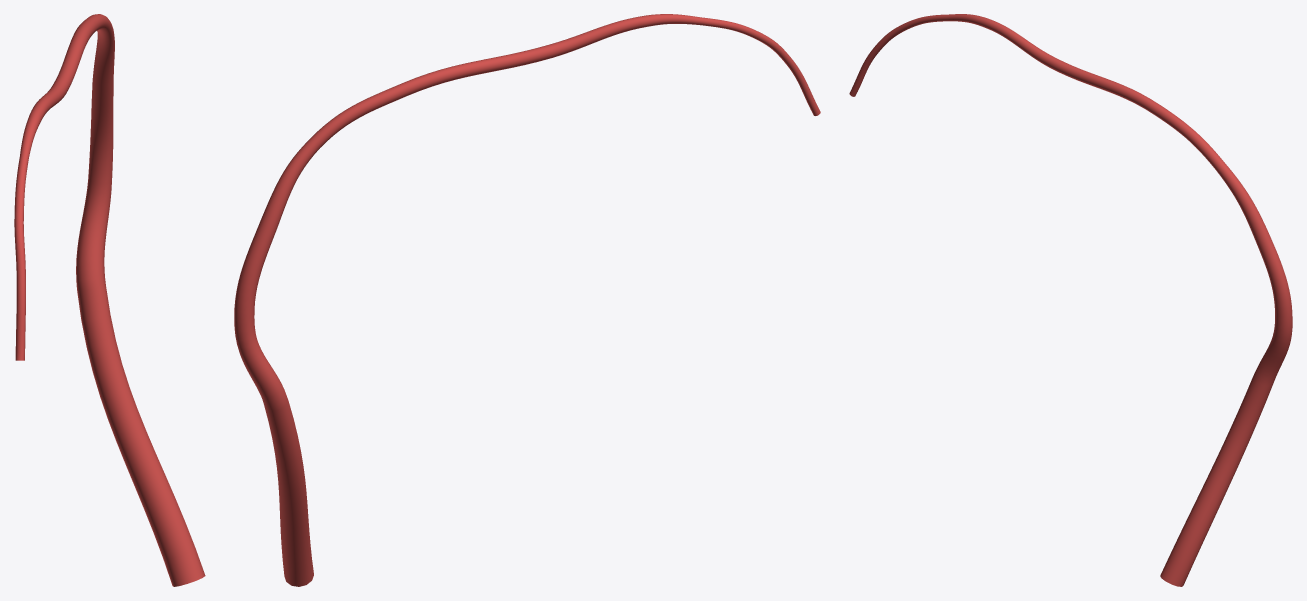
3 views of the same model, side by side, from view 1: azimuth 30°, elevation 25°; view 2: azimuth 150°, elevation 25°; view 3: azimuth 270°, elevation 25° (orthographic). The views are drawn at different scales.
Visible parts, largest first — view 1: 右侧旋股内侧动脉; view 2: 右侧旋股内侧动脉; view 3: 右侧旋股内侧动脉.
Boxes of the visible parts, <box> form: 右侧旋股内侧动脉: <box>14,14,205,586</box>; 右侧旋股内侧动脉: <box>234,14,820,586</box>; 右侧旋股内侧动脉: <box>849,14,1292,586</box>.
Size of the model in its own units: 0.0515 by 0.0772 by 0.0665.
